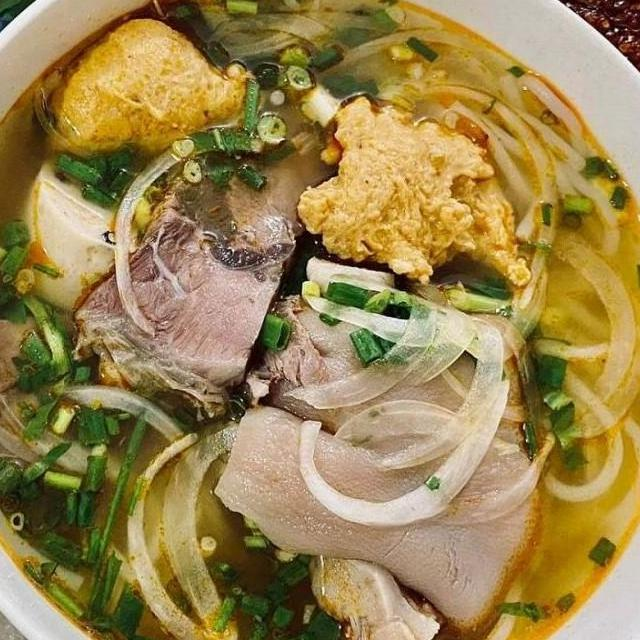bun: (438, 62, 636, 267), (518, 264, 640, 550)
bun bo: (0, 0, 640, 640)
thit bo: (58, 199, 300, 429), (184, 77, 352, 279), (0, 311, 110, 485)
